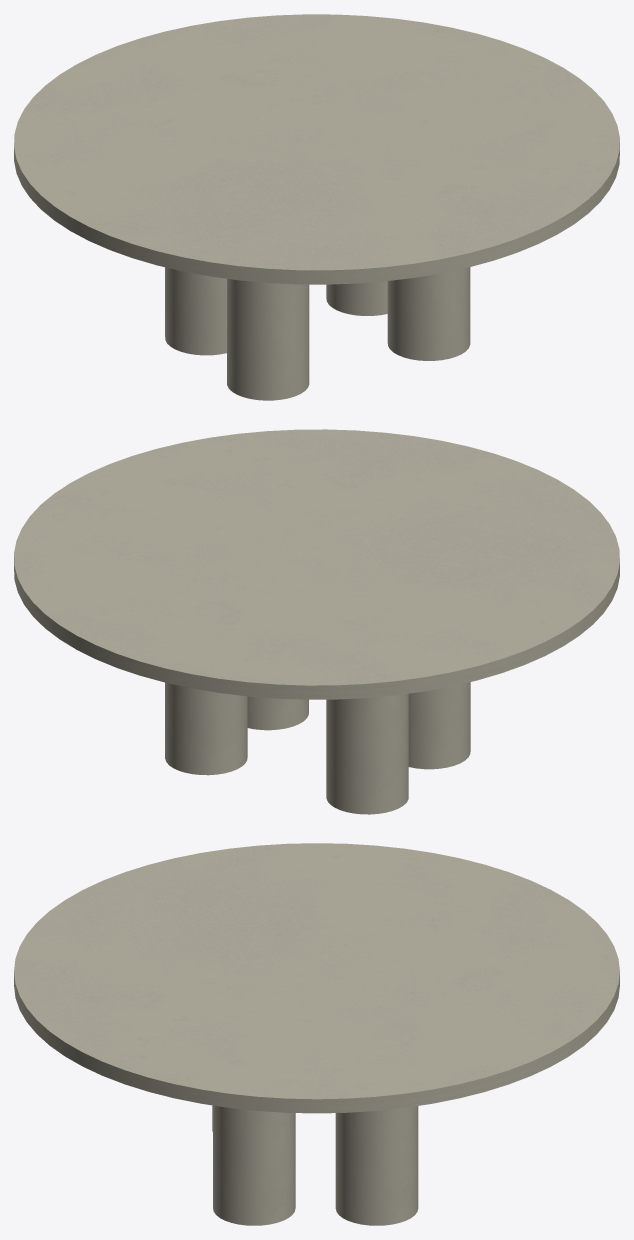
The model's file is silk_round_standard_grove.glb.
3 views of the same model, one above another, from view 1: azimuth 30°, elevation 25°; view 2: azimuth 150°, elevation 25°; view 3: azimuth 270°, elevation 25° (orthographic).
Visible parts, largest first — view 1: silk_roundstandard_grove; view 2: silk_roundstandard_grove; view 3: silk_roundstandard_grove.
Boxes of the visible parts, <box> form: silk_roundstandard_grove: <box>14,14,619,400</box>; silk_roundstandard_grove: <box>14,429,619,814</box>; silk_roundstandard_grove: <box>14,843,619,1225</box>.
Bounding box in the file's own units: 6.97 × 2.51 × 6.97.
Materials: 1 (1 with a texture image).
